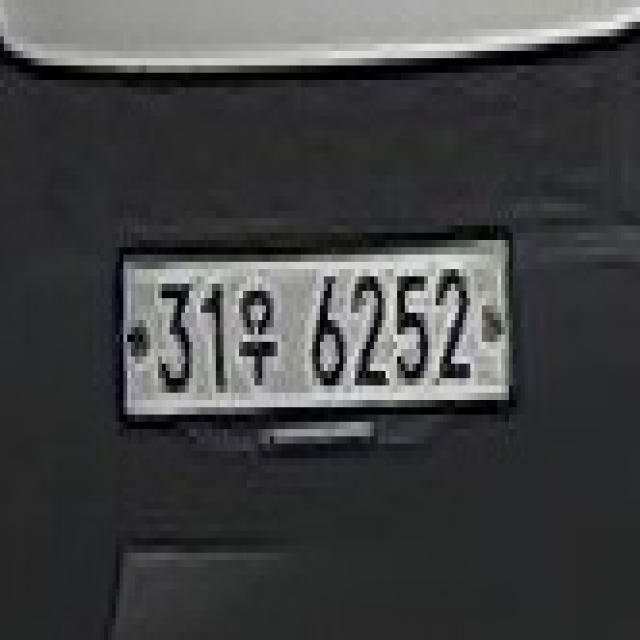1: (200, 276, 232, 393)
2: (347, 269, 389, 386), (432, 269, 474, 386)
3: (154, 269, 197, 400)
5: (389, 262, 432, 385)
6: (308, 269, 347, 386)
license_plate: (119, 247, 513, 422)
u: (231, 276, 278, 393)
